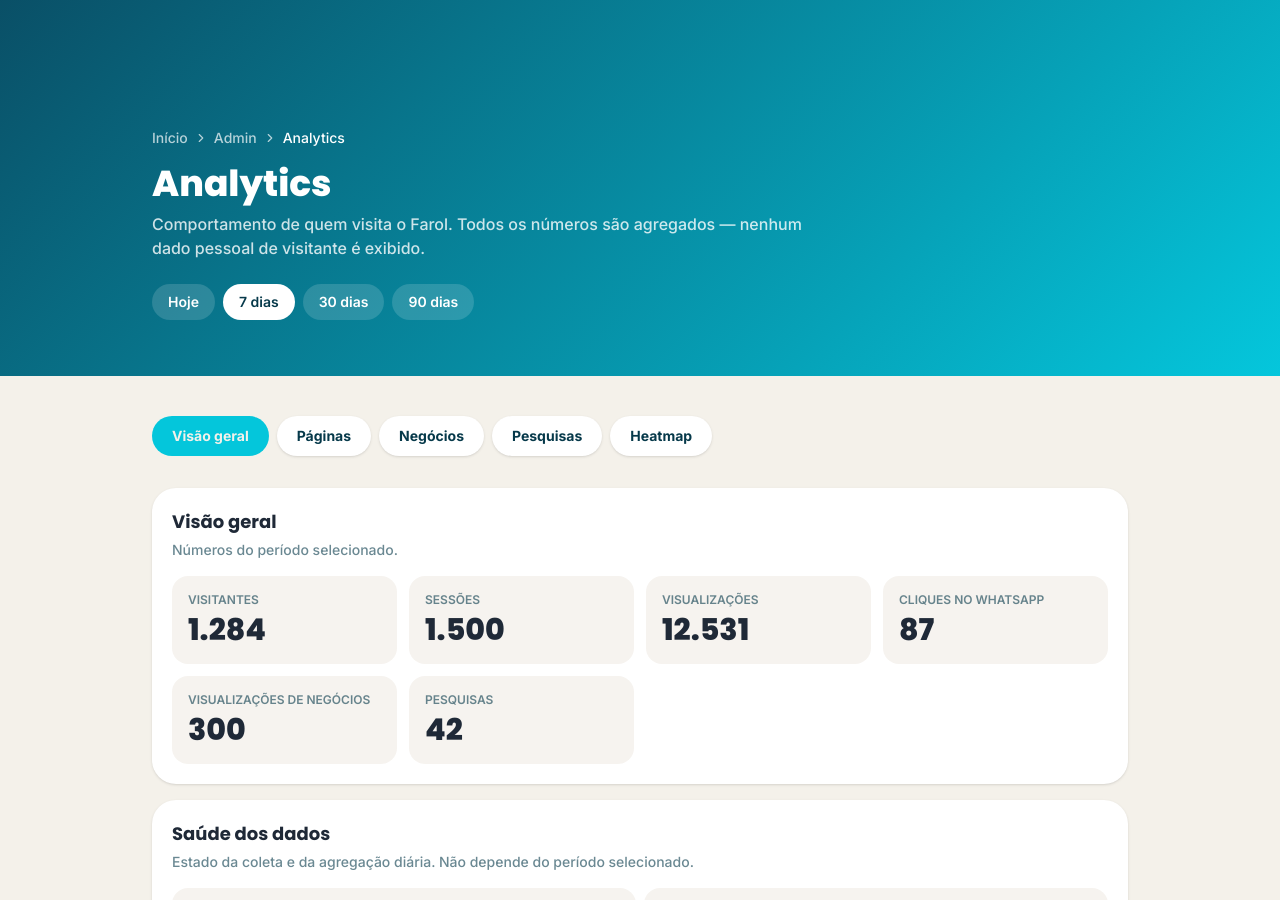
abas › cada aba consulta a própria RPC
Expected: the text "1.284" is shown, top-left (188, 609), bottom-right (266, 651)
Click the button "Páginas": [324, 436] box top-left (277, 416), bottom-right (371, 456)
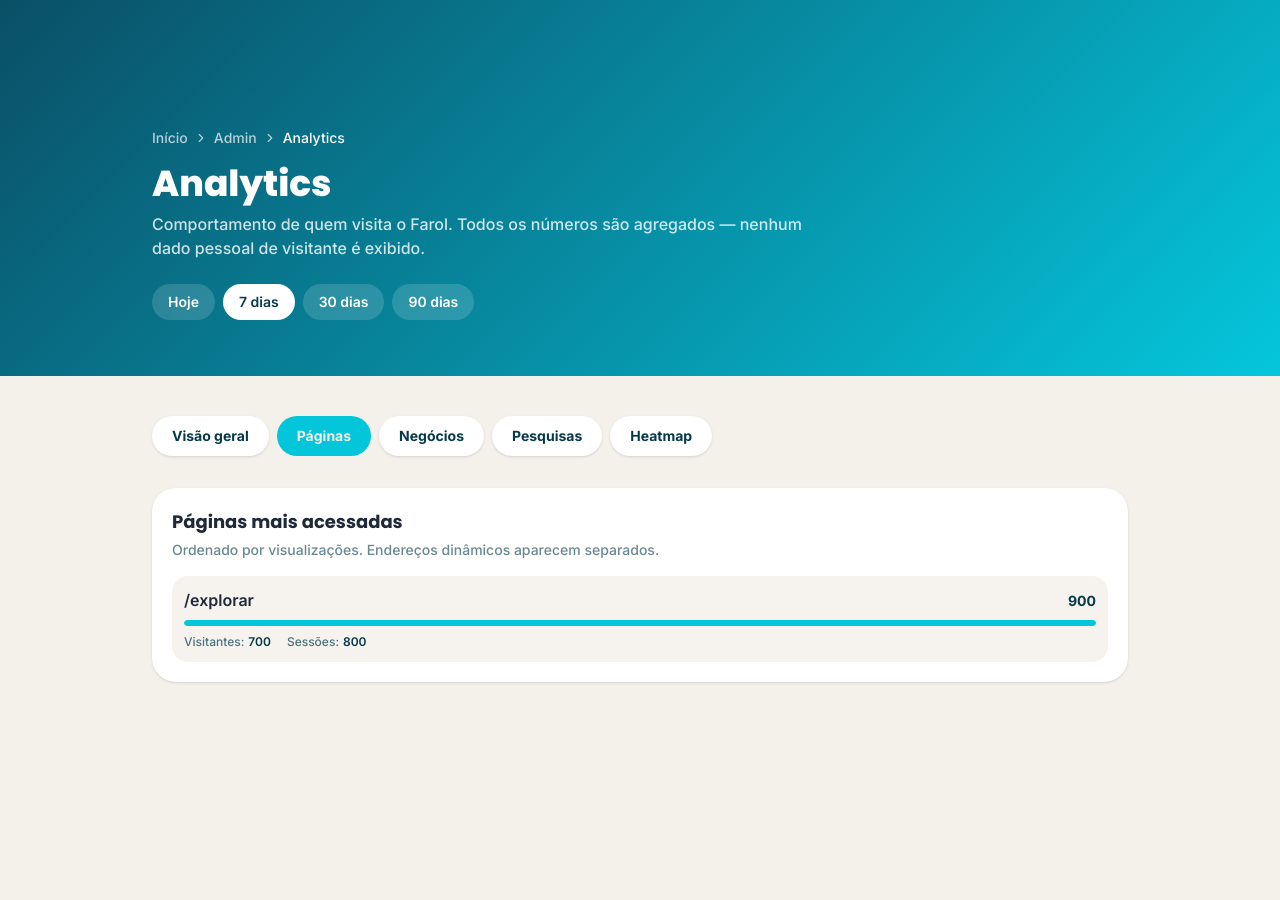
Expected: the text "/explorar" is shown, top-left (184, 588), bottom-right (254, 612)
Click the button "Negócios": [432, 436] box top-left (379, 416), bottom-right (484, 456)
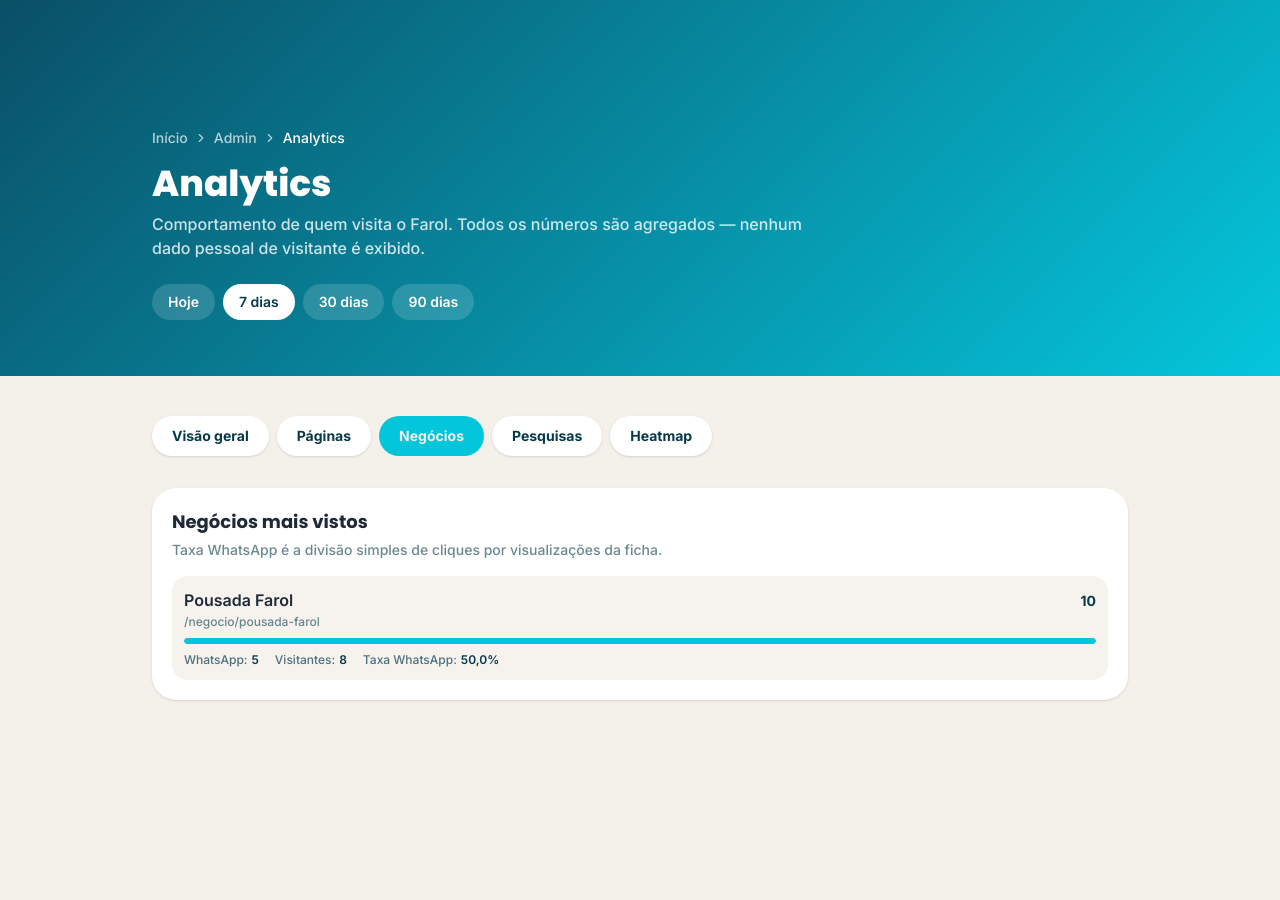
Expected: the text "Pousada Farol" is shown, top-left (184, 588), bottom-right (293, 612)
Expected: the text "50,0%" is shown, top-left (461, 652), bottom-right (499, 668)
Click the button "Pesquisas": [547, 436] box top-left (492, 416), bottom-right (602, 456)
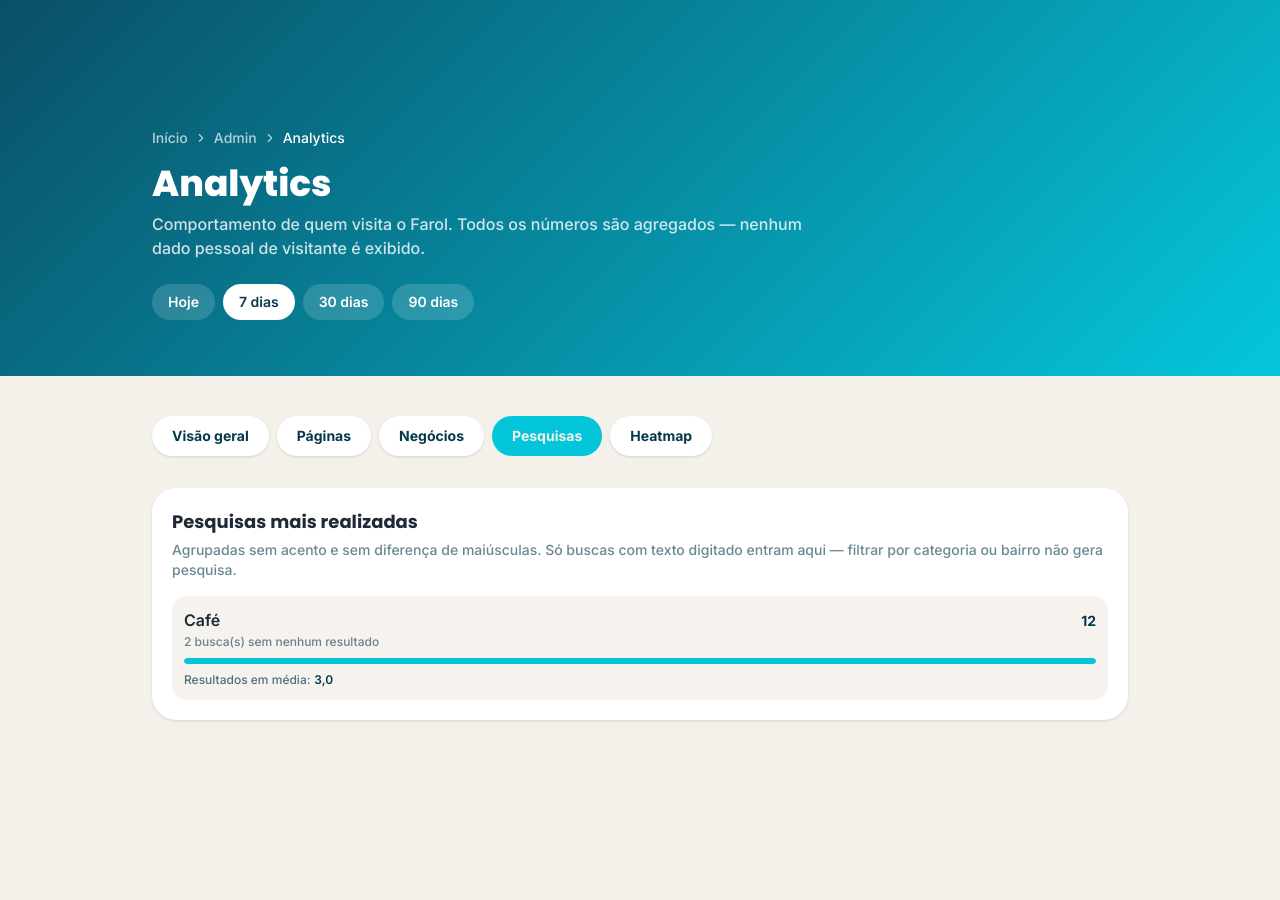
Expected: the text "Café" is shown, top-left (184, 608), bottom-right (220, 632)
Expected: the text "2 busca(s) sem nenhum resultado" is shown, top-left (184, 634), bottom-right (379, 649)
